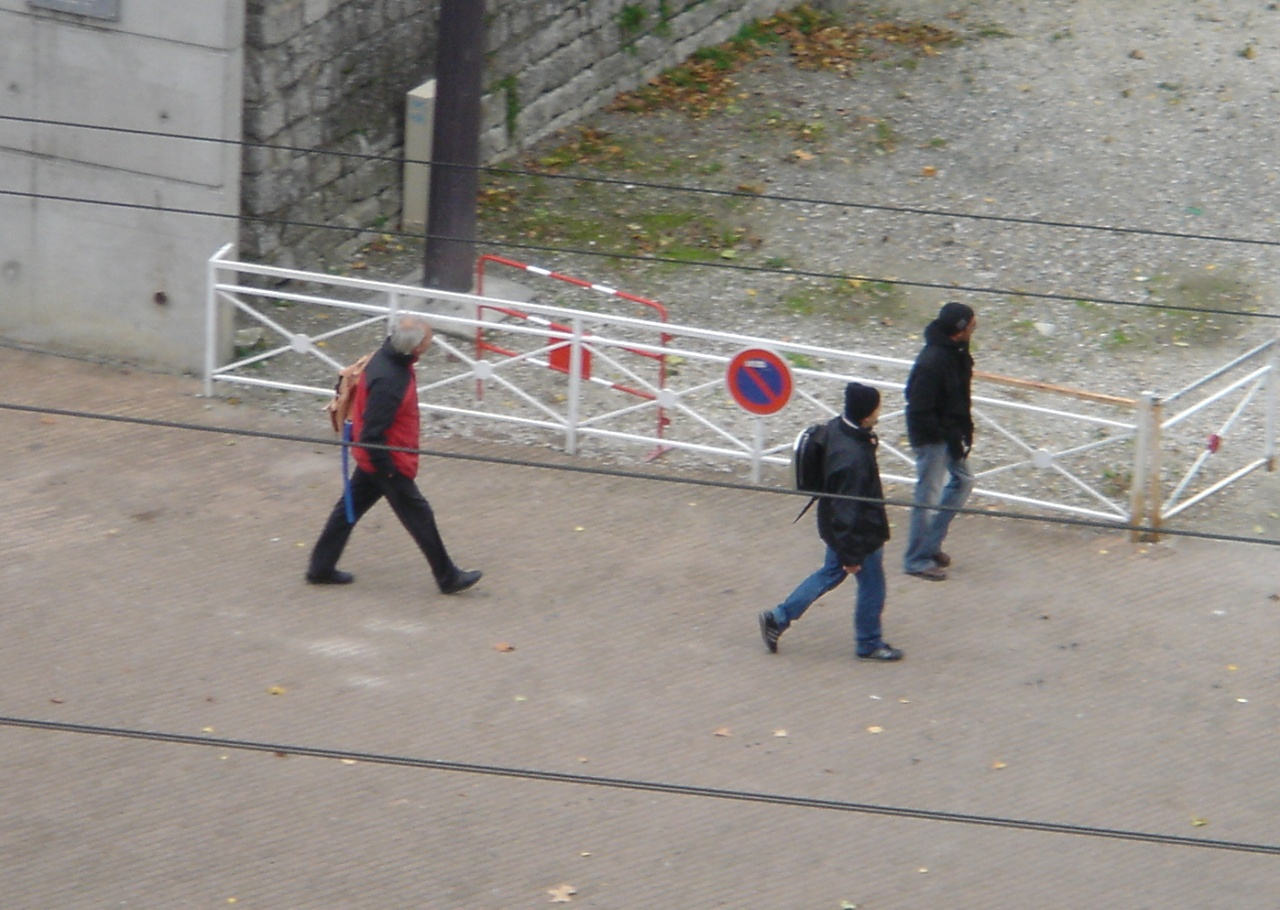person: (334, 315, 447, 592), (807, 381, 895, 660), (905, 297, 985, 581)
